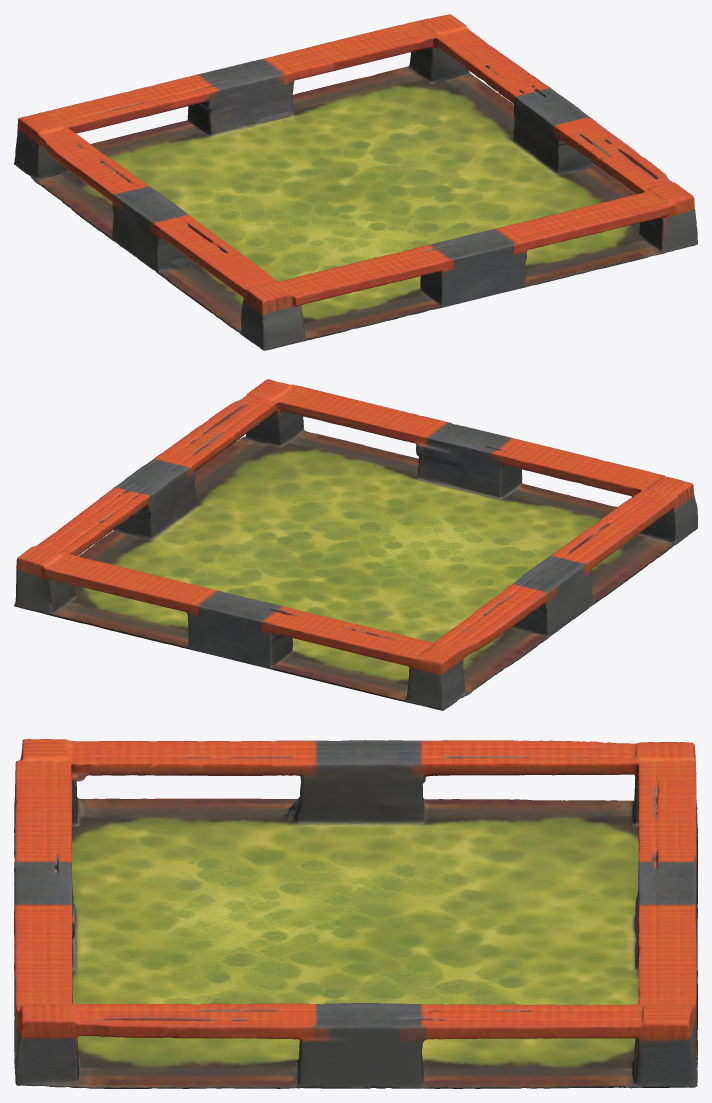
File: Meshy_AI_Plaza_Bench_Array_0602034241_texture.fbx
3 views of the same model, one above another, from view 1: azimuth 30°, elevation 25°; view 2: azimuth 150°, elevation 25°; view 3: azimuth 270°, elevation 25° (orthographic). The views are drawn at different scales.
Visible parts, largest first — view 1: Mesh_0; view 2: Mesh_0; view 3: Mesh_0.
Boxes of the visible parts, box(x1,y1,x2,y2) form: Mesh_0: box(14, 14, 697, 350); Mesh_0: box(14, 379, 697, 710); Mesh_0: box(14, 739, 697, 1088).
Size of the model in its own units: 200 by 20.84 by 200.
1 material, 1 textured.
